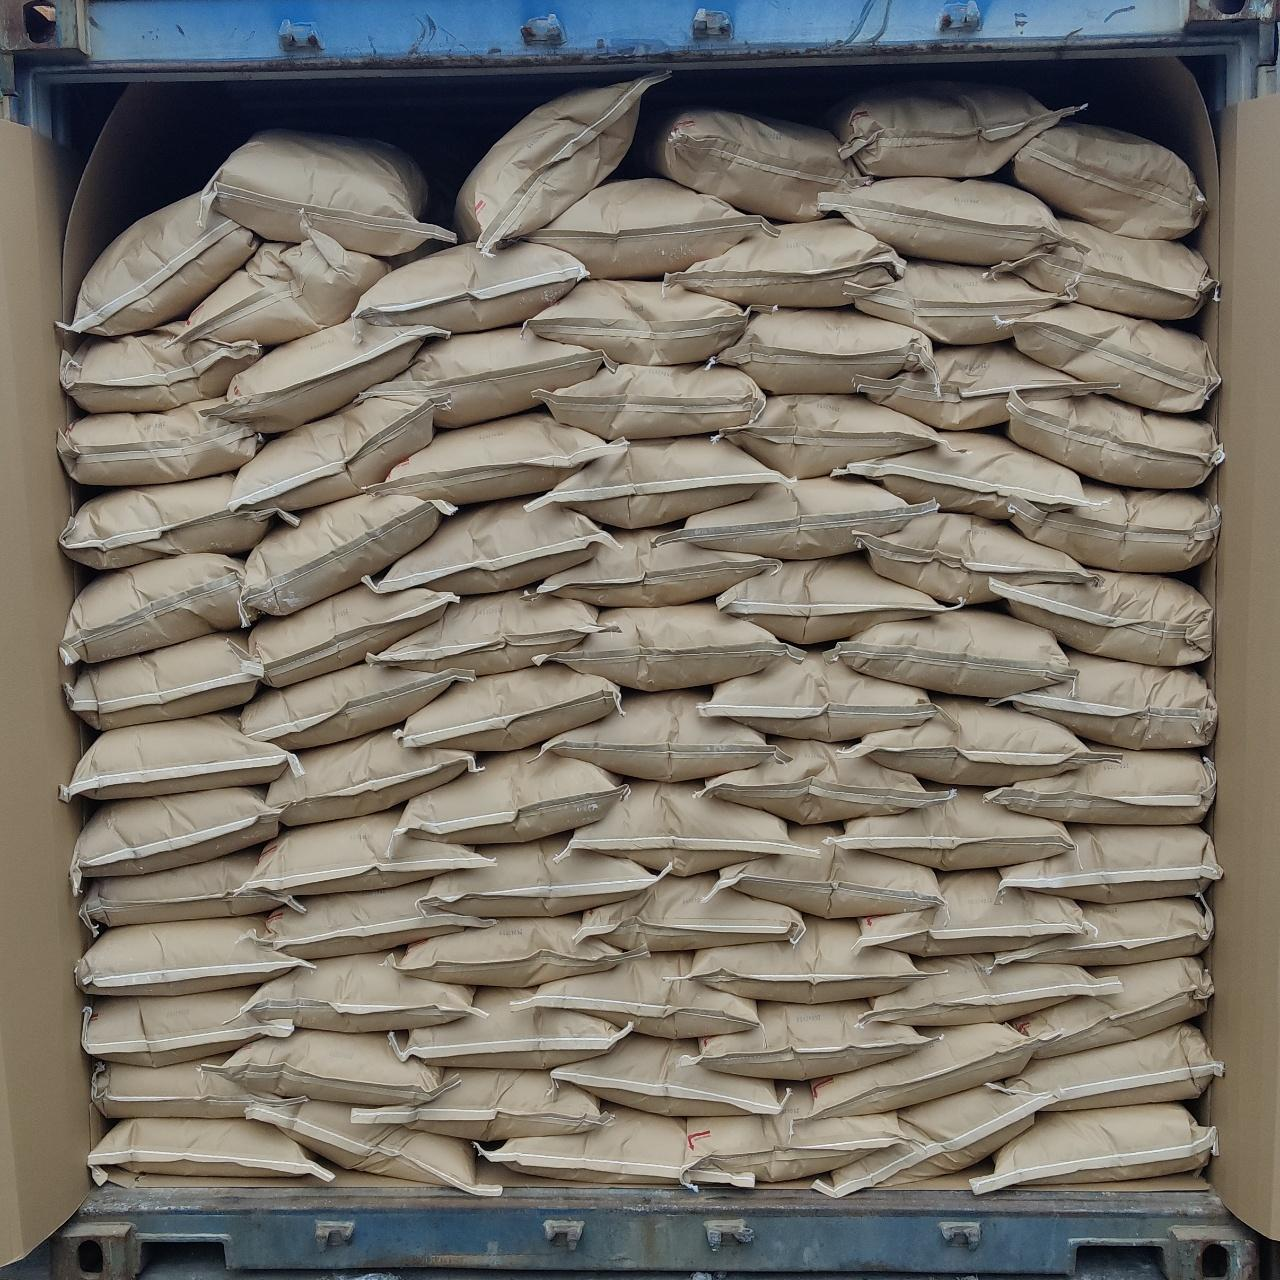sack: (454, 79, 652, 246), (207, 132, 452, 254), (64, 181, 254, 334), (216, 316, 442, 430), (634, 110, 864, 222), (812, 1083, 1039, 1196), (246, 493, 452, 614), (527, 178, 772, 278), (359, 327, 601, 427), (526, 436, 788, 526), (248, 1099, 488, 1198), (229, 395, 433, 510), (176, 232, 388, 342), (847, 694, 1104, 784), (377, 410, 626, 502), (566, 779, 804, 874), (992, 218, 1214, 318), (835, 433, 1092, 518), (544, 604, 798, 690), (72, 788, 278, 894), (802, 1024, 1036, 1118), (400, 745, 622, 844), (824, 84, 1070, 173), (1012, 124, 1204, 238), (1014, 306, 1218, 411), (481, 1107, 750, 1186), (685, 1085, 906, 1182), (376, 498, 608, 590), (994, 652, 1214, 748), (250, 583, 454, 686), (860, 512, 1092, 602), (826, 608, 1070, 694), (704, 648, 932, 740), (62, 476, 292, 566), (714, 824, 940, 915), (64, 554, 254, 662), (972, 1104, 1214, 1189), (254, 808, 490, 894), (510, 954, 758, 1036), (544, 690, 772, 779), (352, 244, 583, 332), (666, 220, 903, 306), (700, 740, 946, 822), (66, 710, 294, 798), (370, 590, 608, 674), (860, 343, 1098, 428), (685, 915, 915, 1002), (822, 178, 1058, 263), (240, 662, 472, 748), (992, 1024, 1223, 1110), (830, 787, 1070, 869), (994, 572, 1212, 662), (1006, 396, 1223, 486), (676, 481, 928, 558), (720, 556, 944, 642), (856, 870, 1085, 954), (532, 527, 776, 606), (272, 728, 476, 822), (400, 663, 620, 750), (76, 914, 308, 996), (688, 1000, 928, 1078), (1016, 958, 1212, 1054), (425, 835, 656, 915), (552, 1034, 779, 1116), (714, 396, 940, 478), (526, 280, 750, 362), (394, 988, 628, 1065), (260, 880, 492, 958), (860, 956, 1118, 1026), (68, 634, 263, 726), (710, 309, 930, 390), (1012, 486, 1218, 572), (856, 260, 1068, 342), (358, 1070, 604, 1141), (252, 952, 472, 1030), (82, 847, 300, 926), (578, 874, 802, 949), (1000, 826, 1220, 903), (983, 750, 1214, 822), (544, 365, 764, 438), (226, 1030, 450, 1102), (62, 331, 263, 410), (60, 406, 263, 484), (399, 915, 624, 986), (994, 896, 1214, 966), (82, 988, 292, 1062), (90, 1121, 332, 1180), (94, 1060, 300, 1118)
